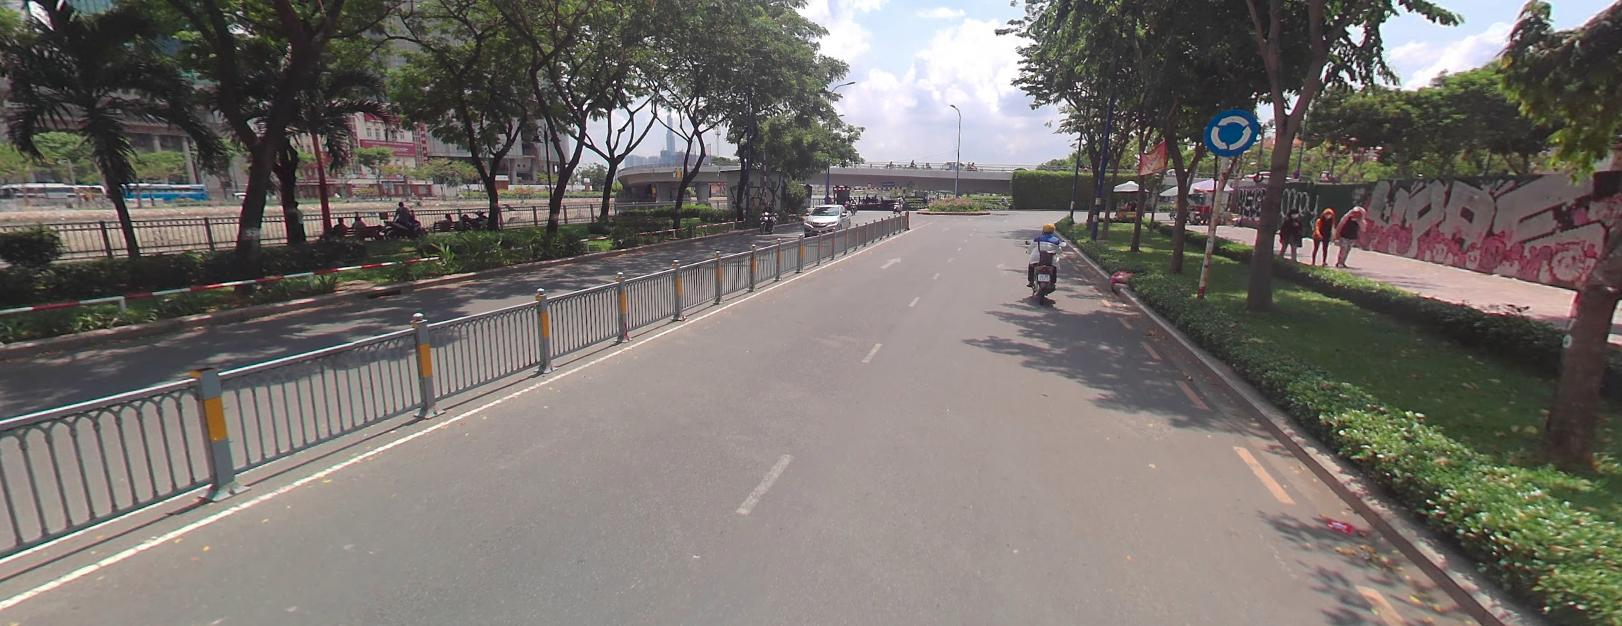Cam con lai: (866, 181, 872, 187)
Hieu lenh: (1204, 108, 1256, 155)
